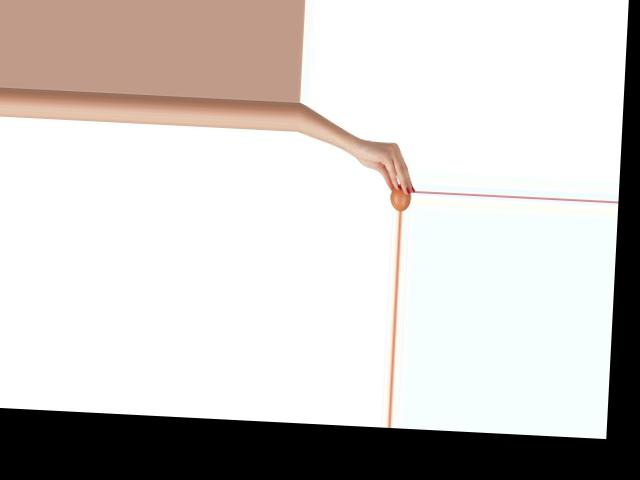egg: (389, 184, 411, 210)
